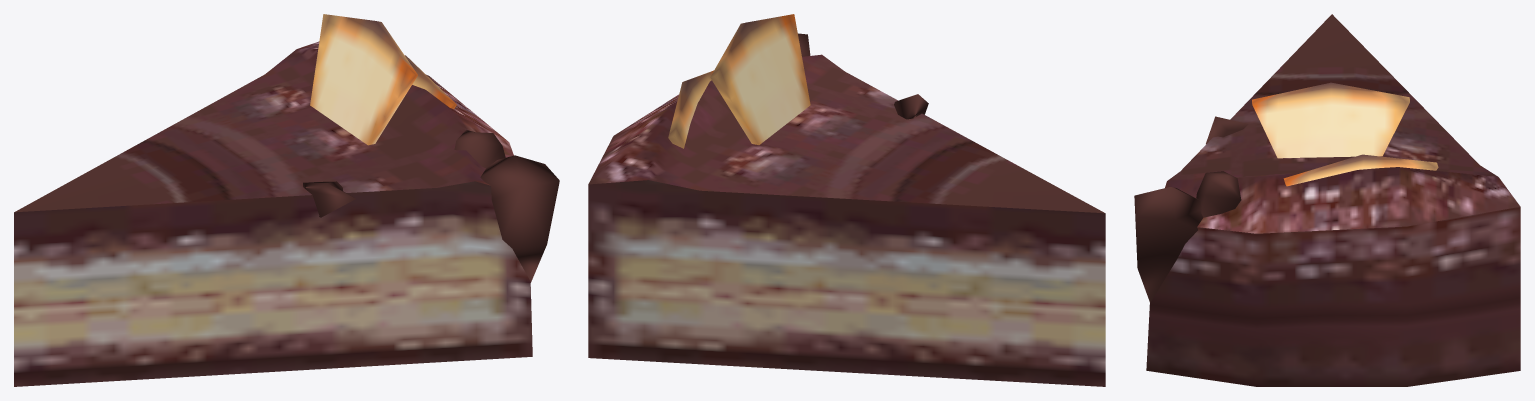
File: edb_food_cake_slice_s1_l0.fbx
3 views of the same model, side by side, from view 1: azimuth 30°, elevation 25°; view 2: azimuth 150°, elevation 25°; view 3: azimuth 270°, elevation 25° (orthographic). The views are drawn at different scales.
Parts seen in each view (by area): view 1: mesh_node; view 2: mesh_node; view 3: mesh_node.
Boxes of the visible parts, <box> form: mesh_node: <box>14,14,559,386</box>; mesh_node: <box>588,14,1105,386</box>; mesh_node: <box>1134,14,1520,386</box>.
Bounding box in the file's own units: 0.2581 × 0.1507 × 0.2018.
Materials: 1 (1 with a texture image).
